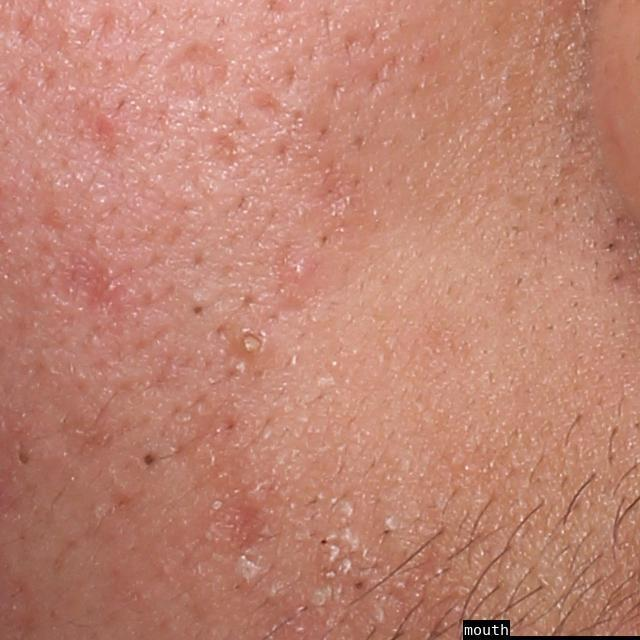atrophic_scar: (163, 42, 230, 97), (235, 85, 296, 138), (200, 128, 243, 173)
comedo: (141, 452, 160, 470)
papule: (281, 254, 310, 283)
